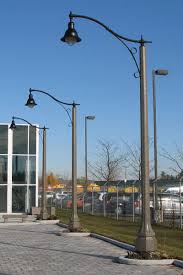light_pole: (125, 38, 160, 257), (150, 66, 168, 226), (66, 98, 84, 234), (38, 121, 56, 220)
